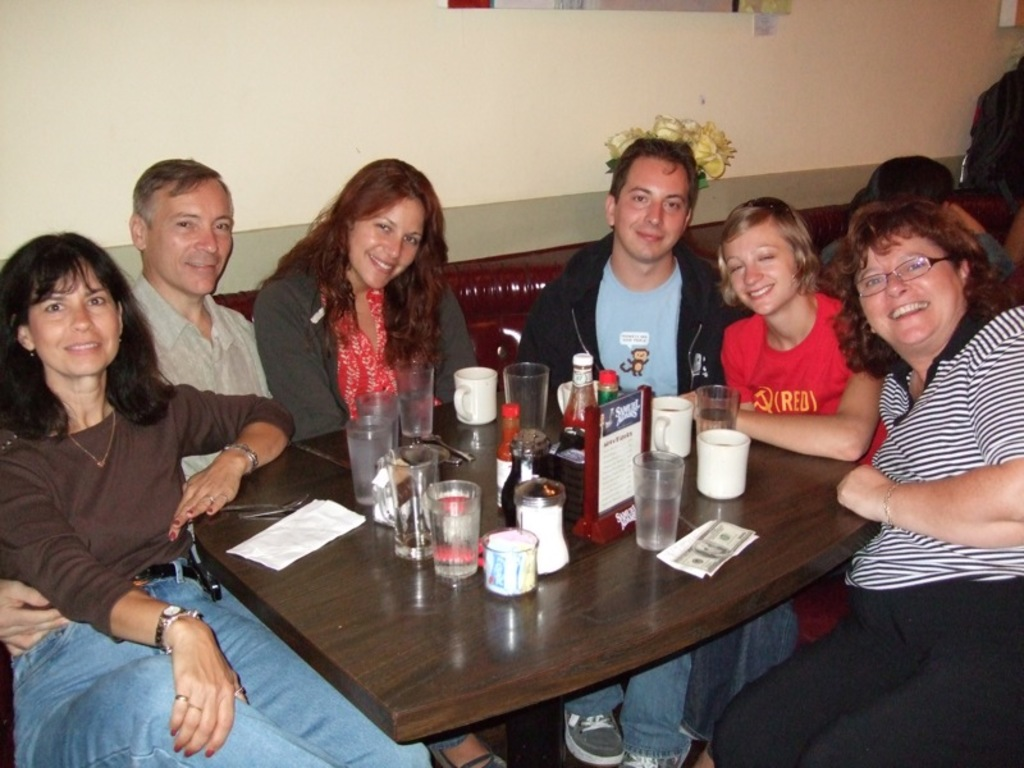Table: (174, 443, 884, 767)
